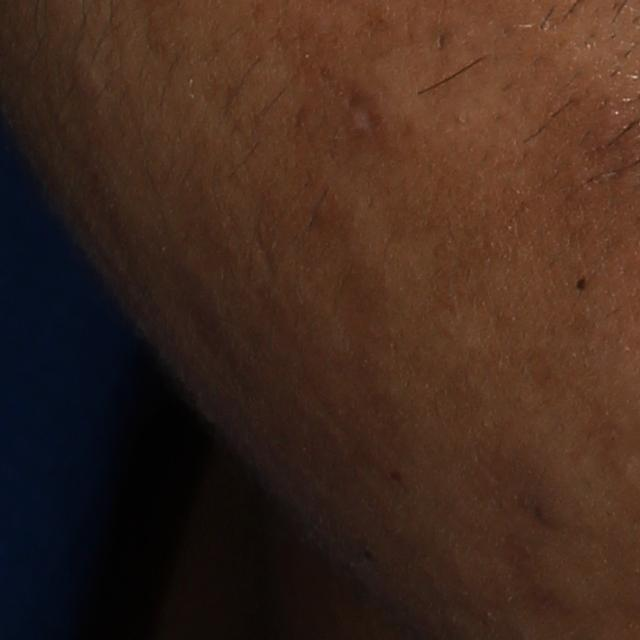nevus: (569, 272, 587, 293)
